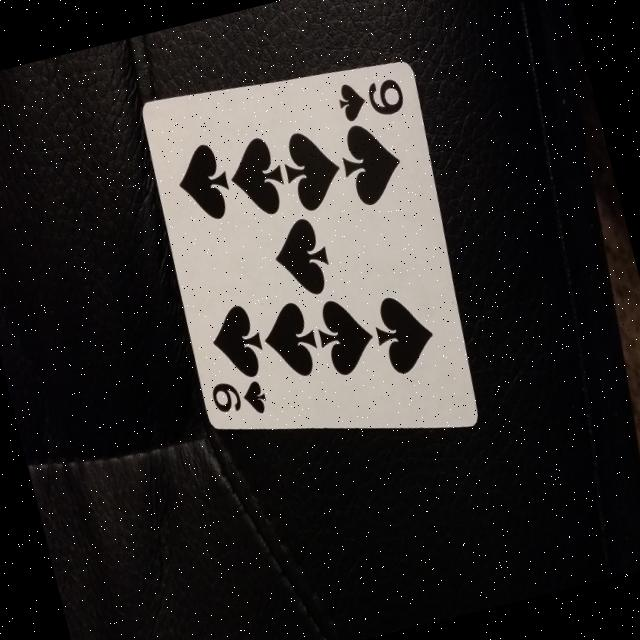9s: (326, 64, 414, 144), (199, 365, 271, 432)
